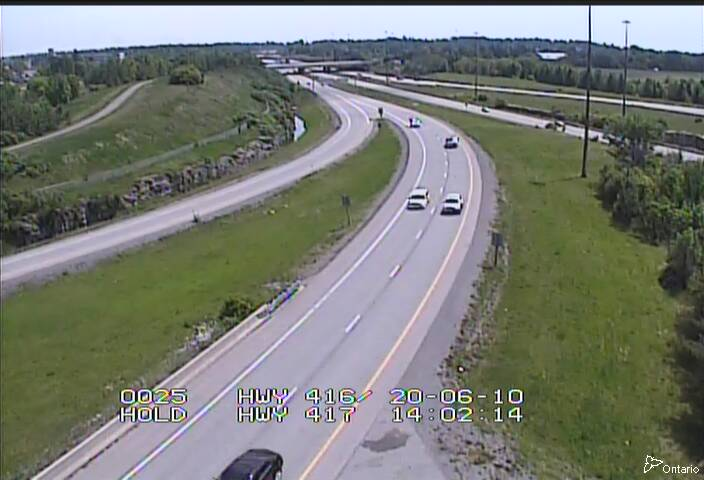time_stamp: (383, 404, 535, 426), (382, 385, 533, 406)
